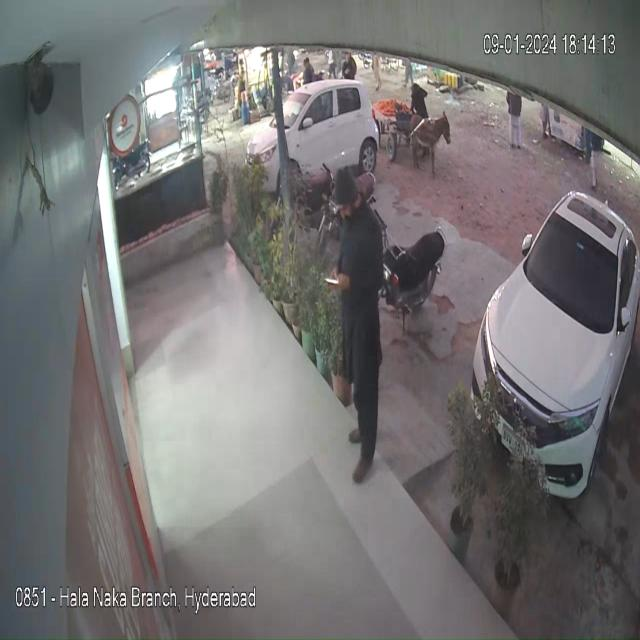Car: (468, 148, 640, 511), (226, 67, 382, 181)
Motorcycle: (392, 199, 455, 353)
